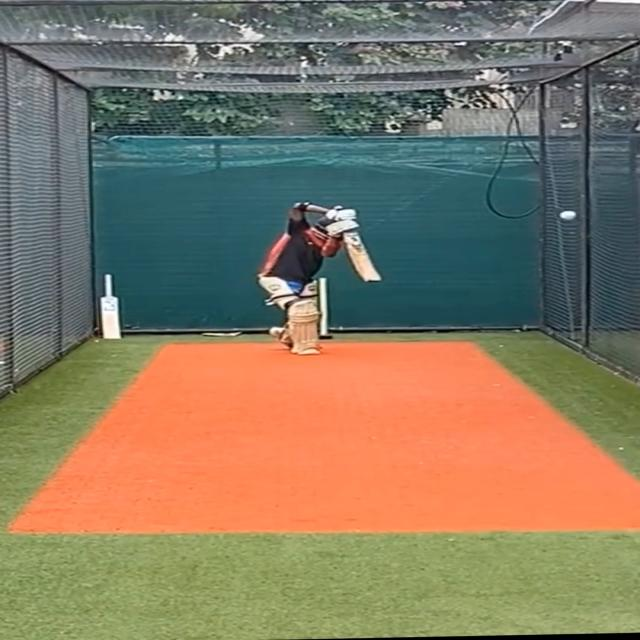ball: (554, 208, 580, 224)
